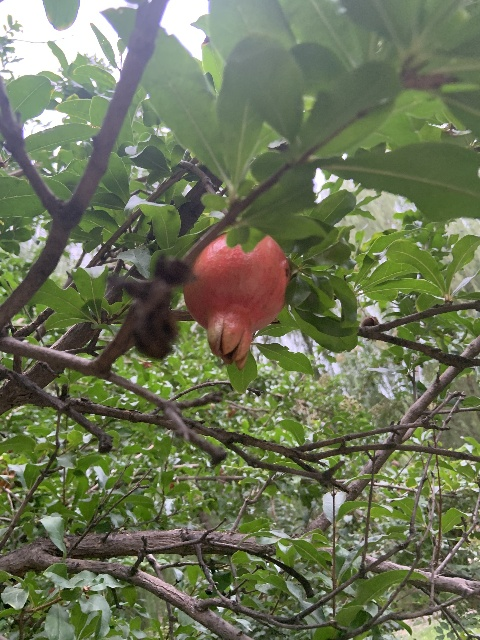ripe: (183, 232, 289, 370)
